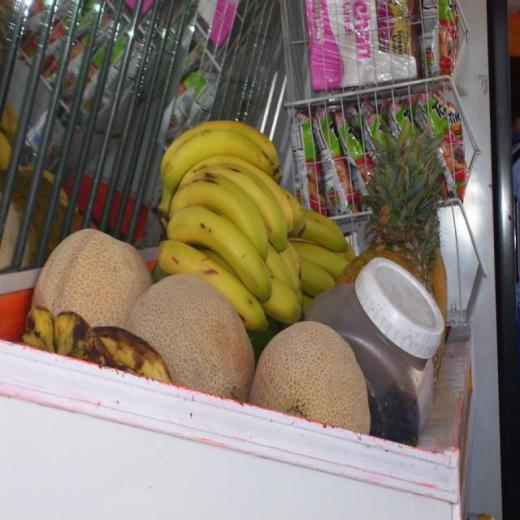Banana: (154, 119, 358, 334), (19, 306, 174, 385)
